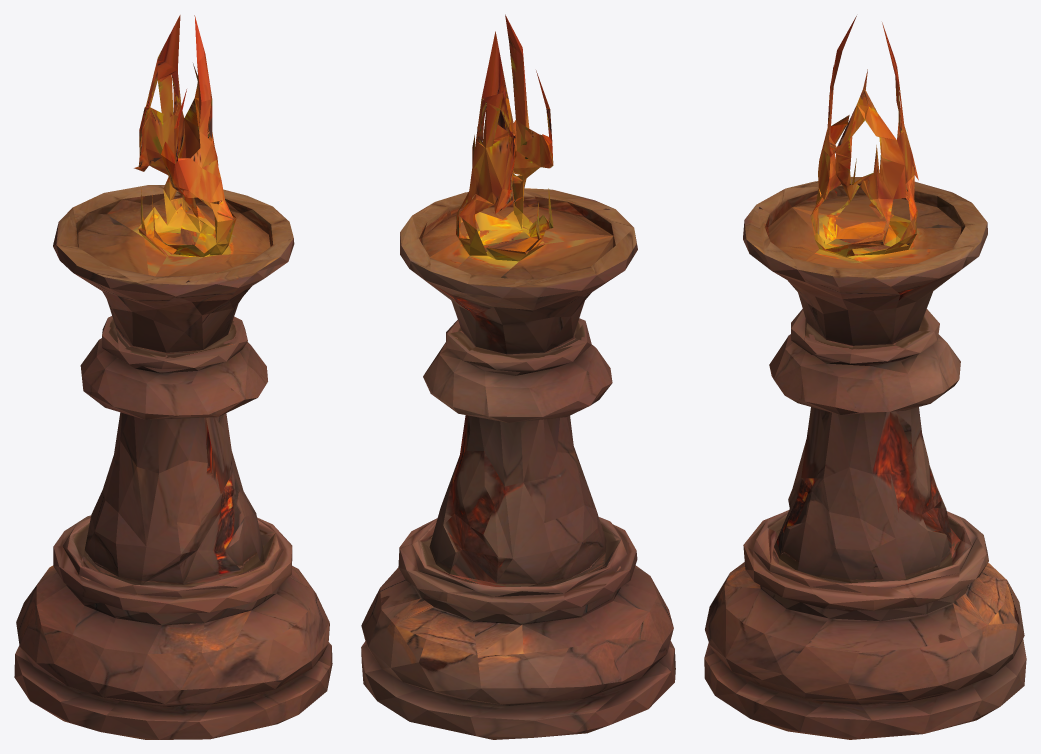
3 renders of one model, left to right at view 1: azimuth 30°, elevation 25°; view 2: azimuth 150°, elevation 25°; view 3: azimuth 270°, elevation 25°, orthographic. The views are drawn at different scales.
Parts seen in each view (by area): view 1: Uma_peça_de_torre_í_0517125603_texture; view 2: Uma_peça_de_torre_í_0517125603_texture; view 3: Uma_peça_de_torre_í_0517125603_texture.
Part boxes in pixels (x1,y1,x2,y2): Uma_peça_de_torre_í_0517125603_texture: [14, 15, 332, 739]; Uma_peça_de_torre_í_0517125603_texture: [361, 14, 675, 739]; Uma_peça_de_torre_í_0517125603_texture: [704, 16, 1026, 739].
Size of the model in its own units: 1.86 by 4.27 by 1.86.
